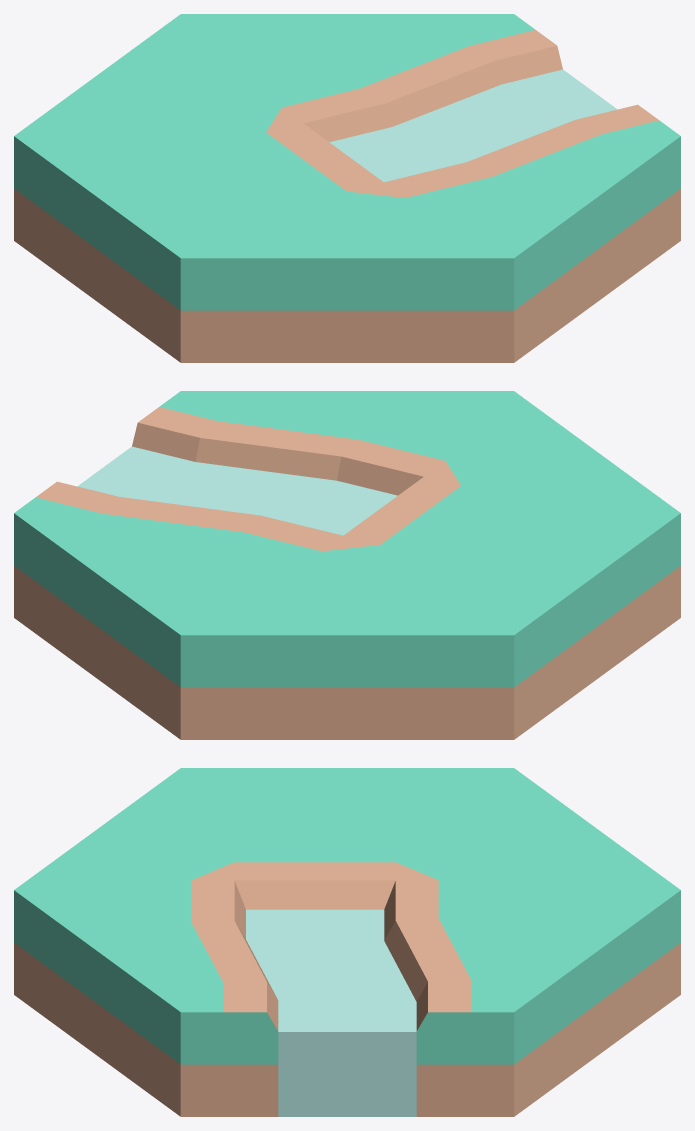
The model's file is river_end.glb.
The picture shows the model from 3 angles, top to bottom: view 1: azimuth 30°, elevation 25°; view 2: azimuth 150°, elevation 25°; view 3: azimuth 270°, elevation 25°; orthographic projection.
Visible parts, largest first — view 1: river_end; view 2: river_end; view 3: river_end.
Boxes of the visible parts, left/top/right/bottom form: river_end: left=14, top=14, right=680, bottom=362; river_end: left=14, top=391, right=680, bottom=739; river_end: left=14, top=768, right=680, bottom=1116.
Size of the model in its own units: 1 by 0.2 by 1.15.
